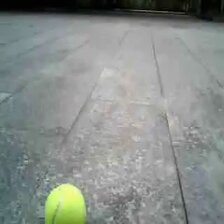tennis: (45, 183, 86, 224)
